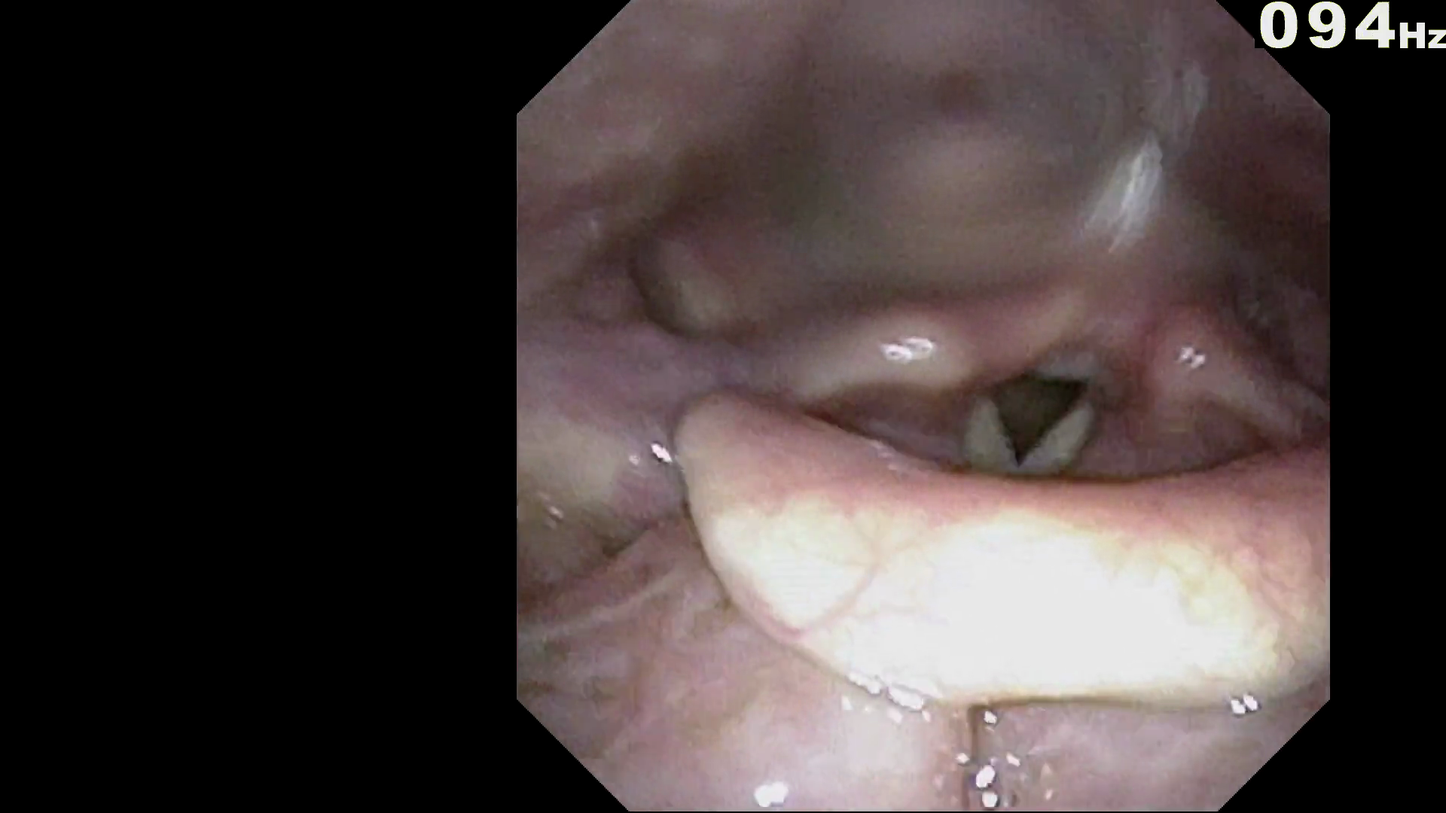epiglottis: (703, 468, 1312, 693)
